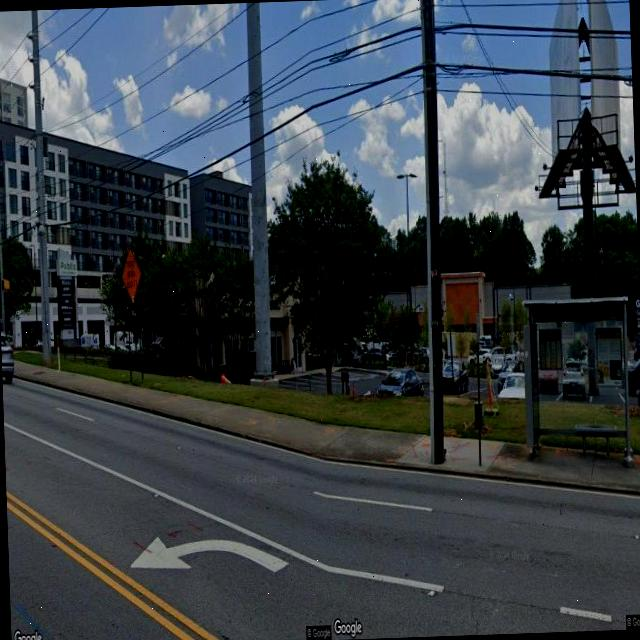seating: (574, 422, 618, 462)
shelter: (520, 294, 634, 470)
